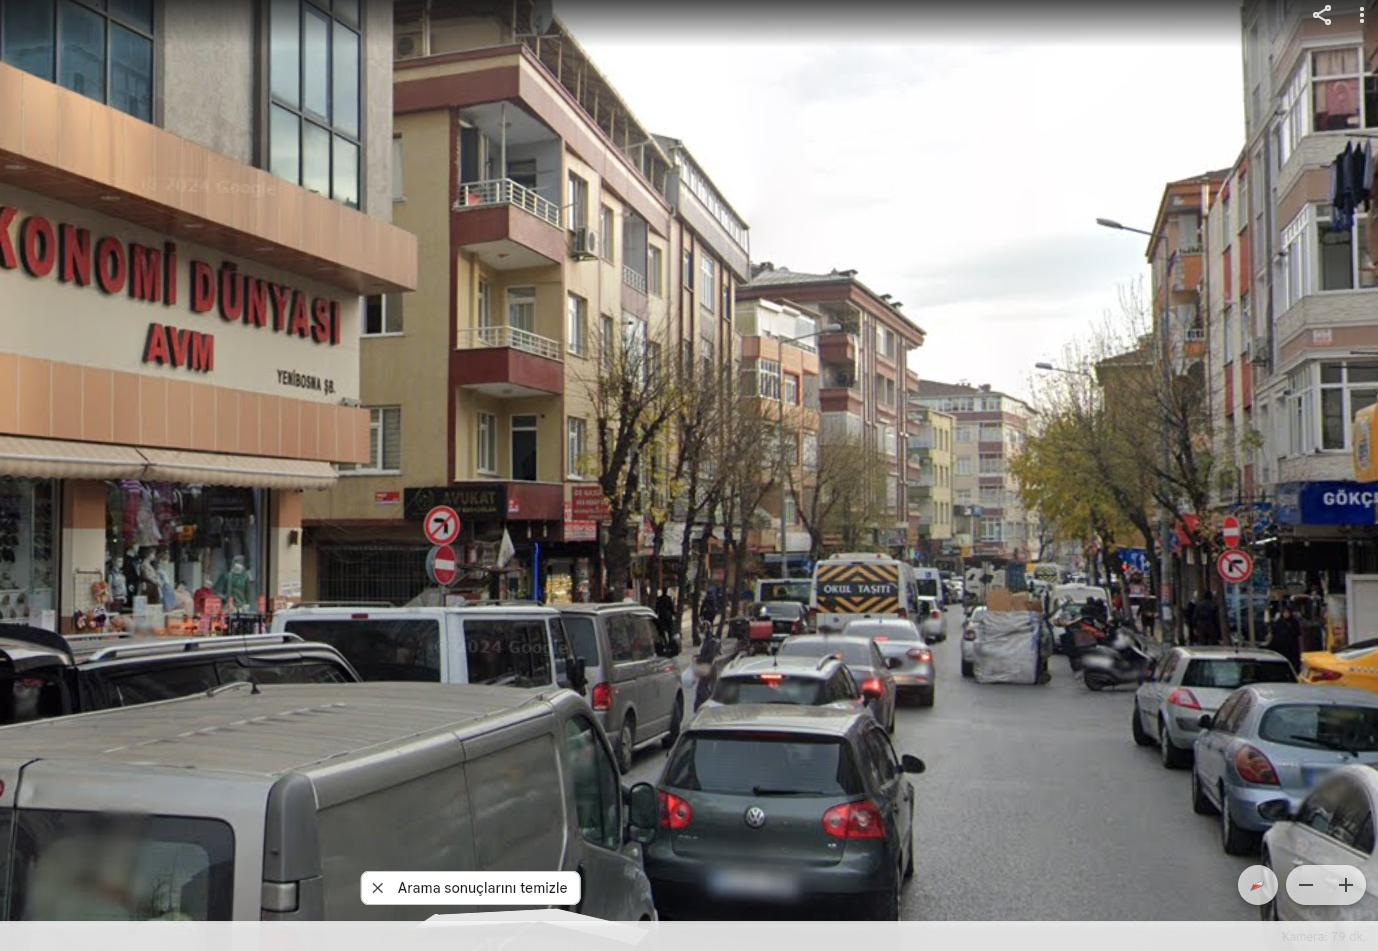leftturnsareforbidden: (423, 506, 463, 545)
rightturnsareforbidden: (1217, 550, 1254, 582)
